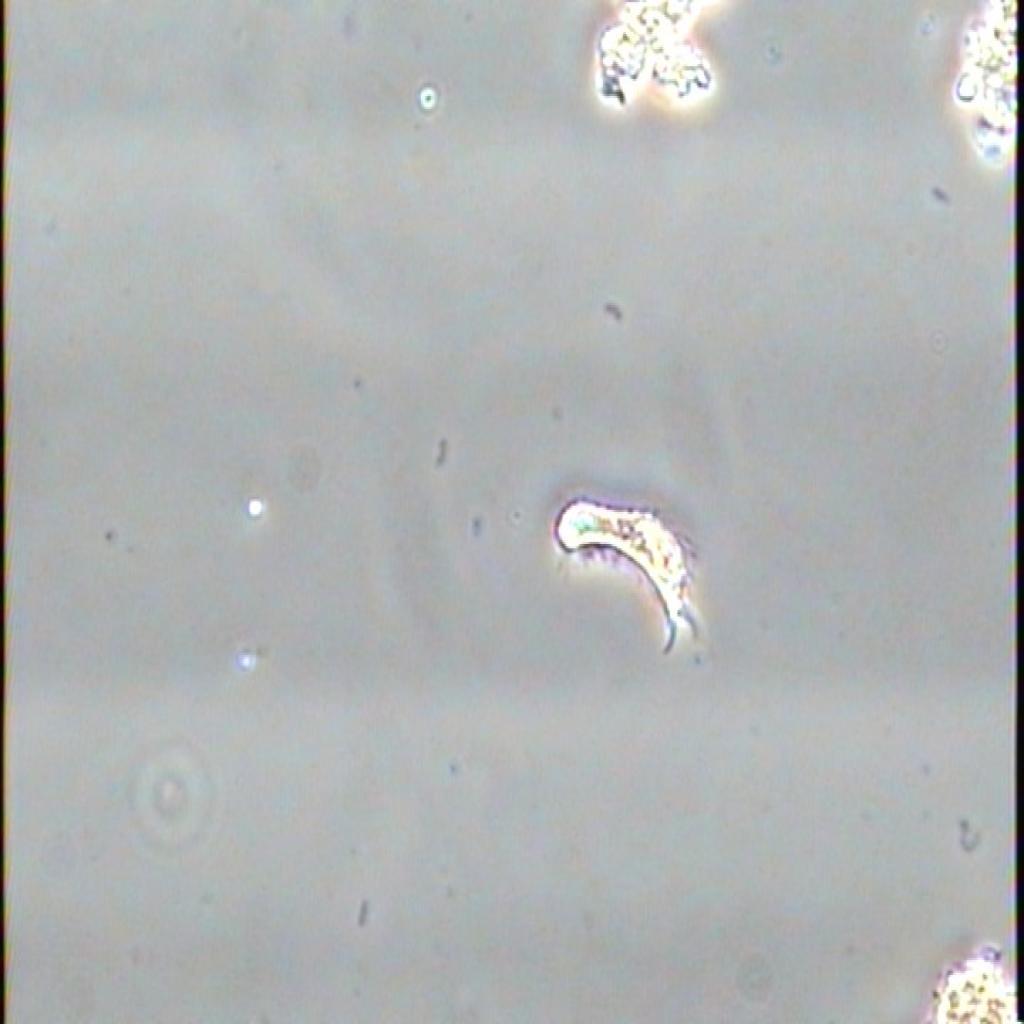Chaetonotus: (540, 479, 727, 669)
